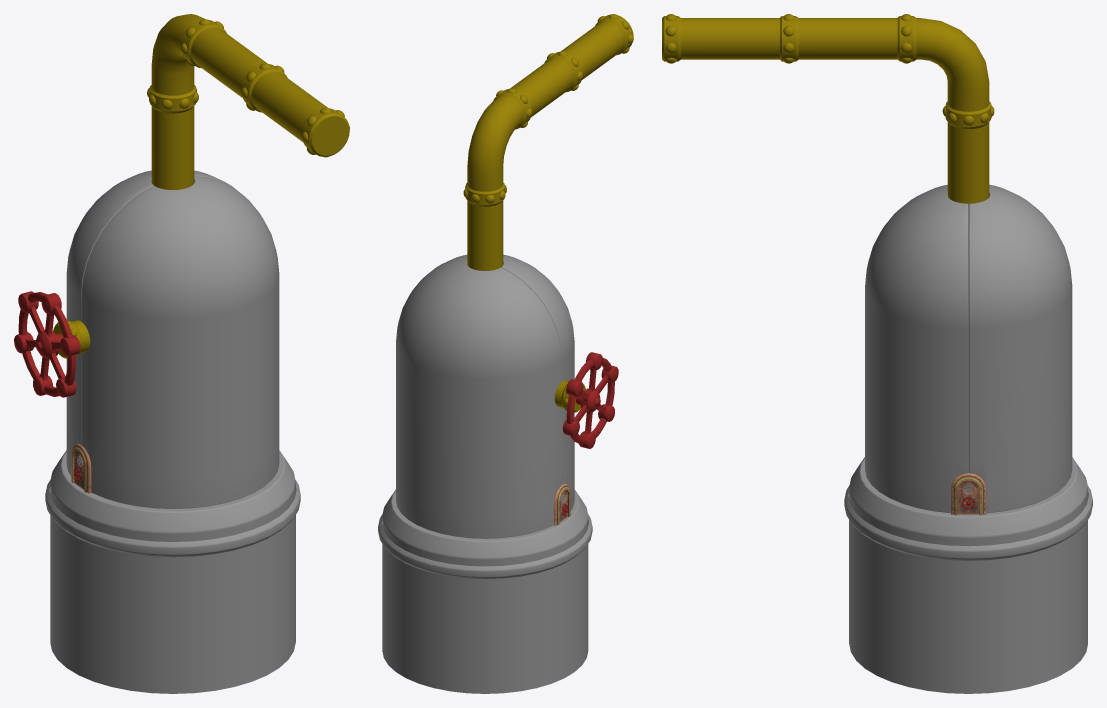
The model's file is cauldron.FBX.
3 views of the same model, side by side, from view 1: azimuth 30°, elevation 25°; view 2: azimuth 150°, elevation 25°; view 3: azimuth 270°, elevation 25° (orthographic). The views are drawn at different scales.
Parts seen in each view (by area): view 1: cauldron_back, cauldron_front, pipe_small_oneside002, pipe_wheel_low002, pipe_small_oneside, Object002, pipe_small_oneside001, pipe_90_oneside, pipe_medium_oneside001, doorframe; view 2: cauldron_front, cauldron_back, pipe_90_oneside, pipe_wheel_low002, pipe_small_oneside, Object002, pipe_small_oneside002, pipe_small_oneside001, pipe_medium_oneside001; view 3: cauldron_back, cauldron_front, pipe_90_oneside, pipe_small_oneside001, pipe_small_oneside002, pipe_small_oneside, Object002, doorframe001, door001.
Boxes of the visible parts, x1,y1,x2,y2 form: cauldron_back: [50, 176, 295, 693]; cauldron_front: [66, 170, 231, 475]; pipe_small_oneside002: [251, 72, 349, 157]; pipe_wheel_low002: [14, 291, 80, 397]; pipe_small_oneside: [147, 85, 198, 189]; Object002: [45, 480, 300, 557]; pipe_small_oneside001: [191, 27, 287, 112]; pipe_90_oneside: [151, 14, 226, 95]; pipe_medium_oneside001: [53, 320, 90, 358]; doorframe: [71, 443, 91, 493]; cauldron_front: [396, 259, 561, 538]; cauldron_back: [382, 254, 588, 693]; pipe_90_oneside: [467, 88, 532, 191]; pipe_wheel_low002: [563, 352, 618, 448]; pipe_small_oneside: [463, 183, 506, 270]; Object002: [378, 514, 592, 579]; pipe_small_oneside002: [561, 14, 633, 79]; pipe_small_oneside001: [510, 51, 582, 117]; pipe_medium_oneside001: [554, 380, 585, 412]; cauldron_back: [849, 184, 1087, 693]; cauldron_front: [968, 184, 1072, 513]; pipe_90_oneside: [897, 14, 989, 111]; pipe_small_oneside001: [780, 14, 897, 63]; pipe_small_oneside002: [662, 14, 779, 63]; pipe_small_oneside: [942, 101, 994, 204]; Object002: [844, 485, 1092, 560]; doorframe001: [951, 473, 986, 515]; door001: [957, 480, 979, 514].
Size of the model in its own units: 2143 by 5377 by 3342.
